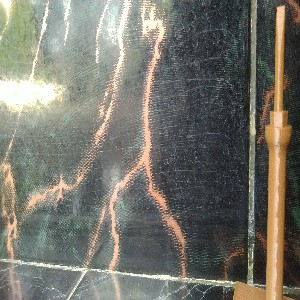obeng: (265, 4, 293, 300)
